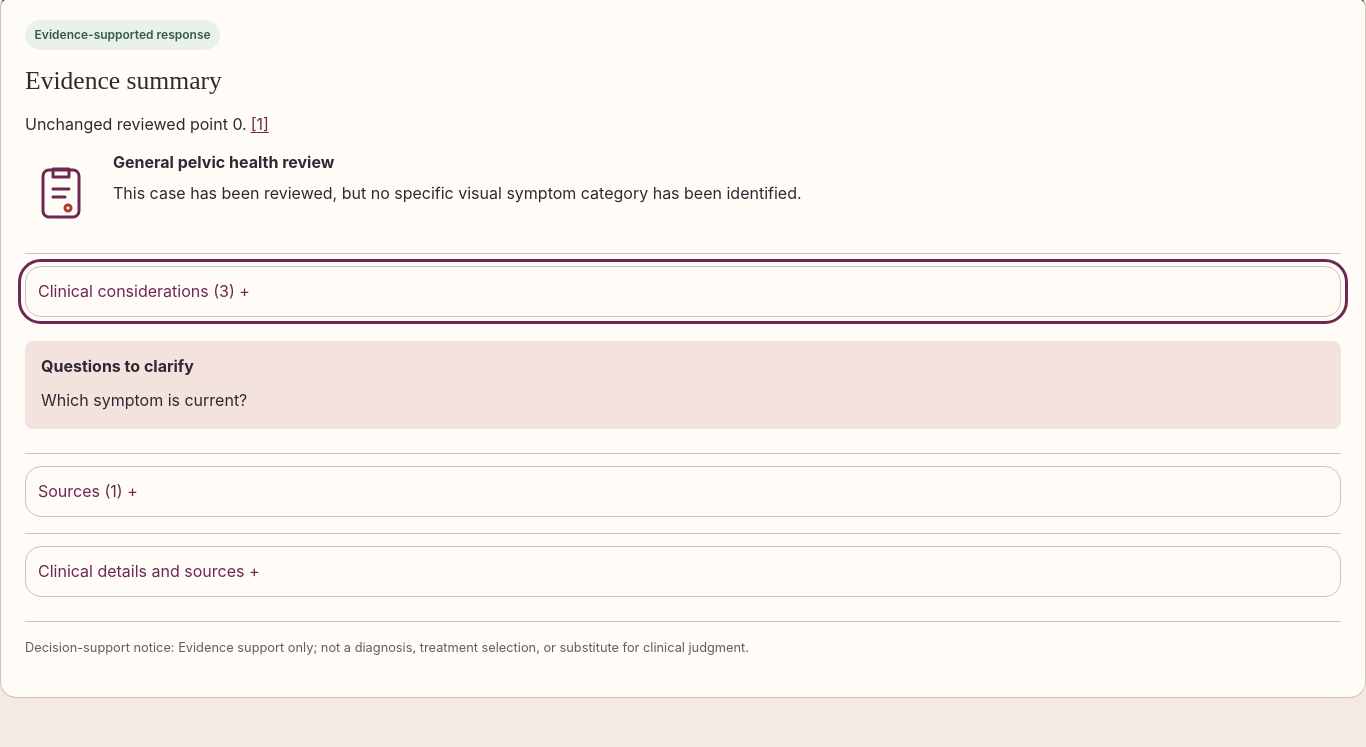
reviewed response presentation › limits initial key points and questions and keeps remaining details accessible
Type keys " "
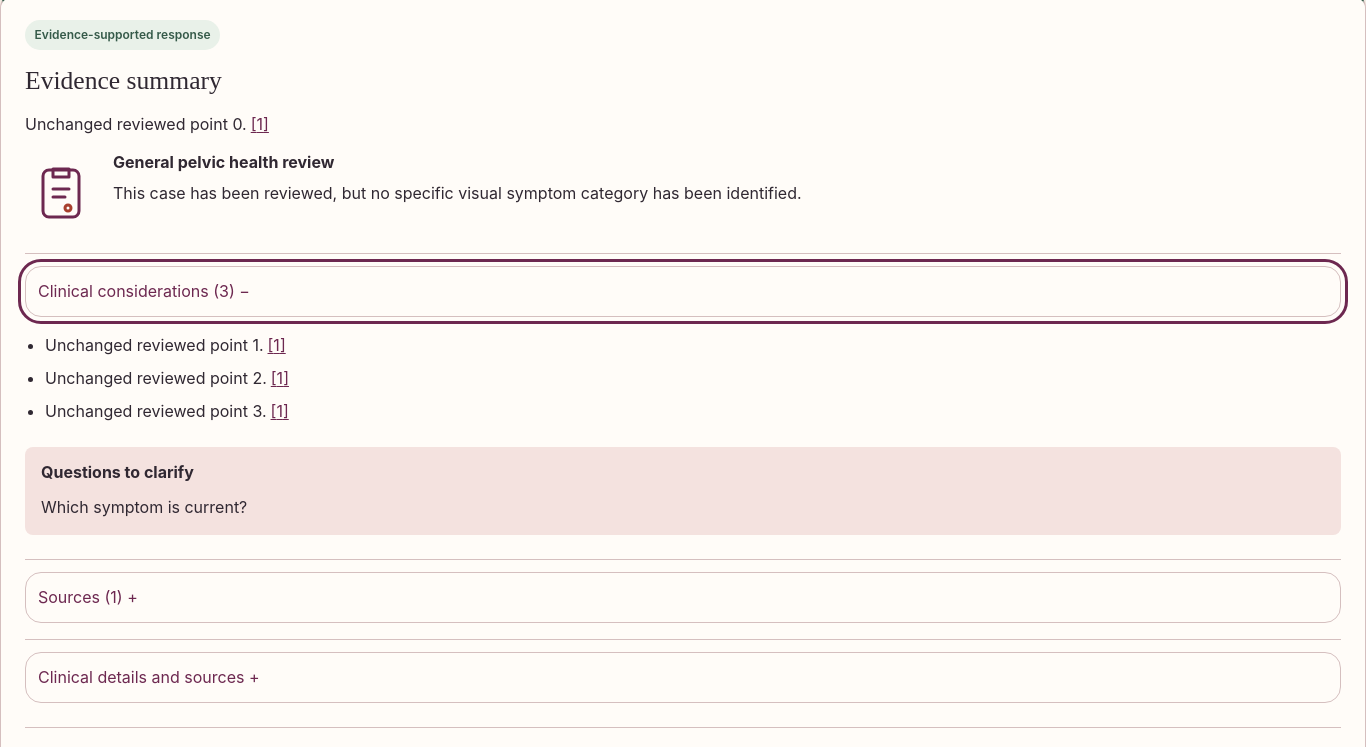
Expected: the heading "Questions to clarify" is shown, top-left (41, 462), bottom-right (194, 482)
Click the button "Clinical details and sources +".
click(141, 677)  # box top-left (25, 652), bottom-right (1341, 703)
(page scrolled)
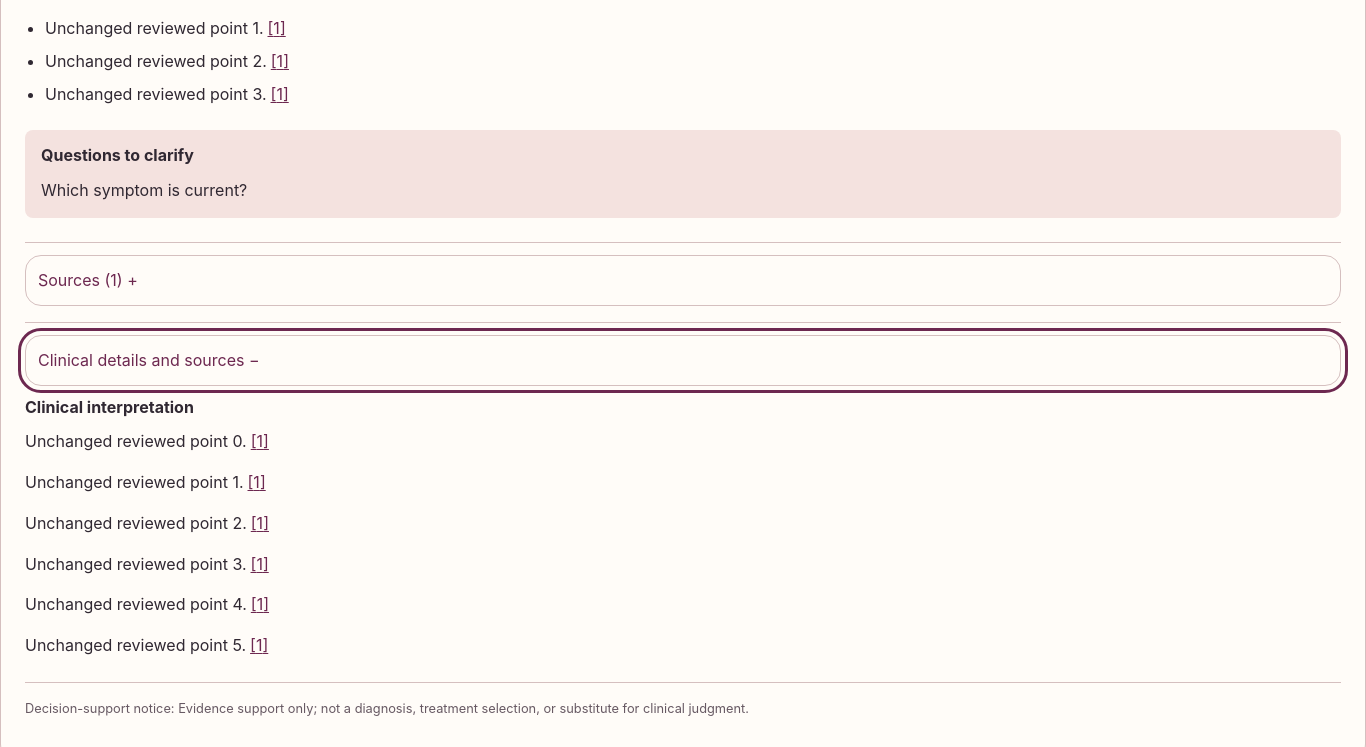
Expected: the text "Unchanged reviewed point 5." is shown, top-left (25, 635), bottom-right (246, 655)
